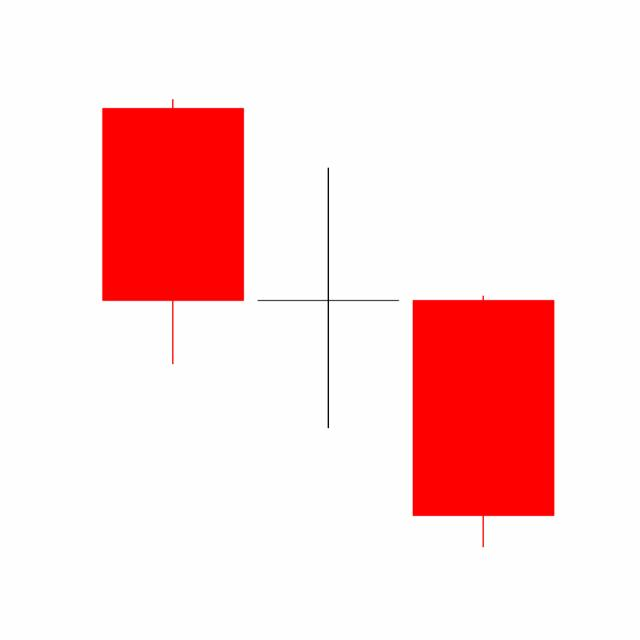Marubozu: (405, 292, 561, 550)
